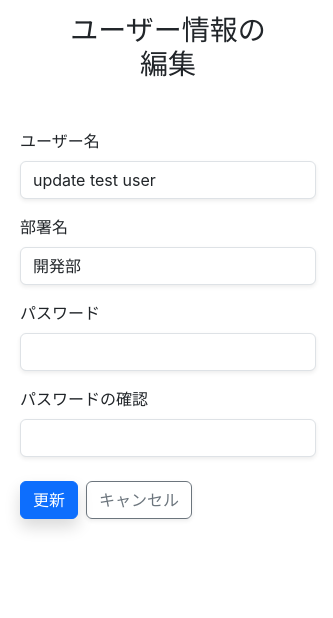
Scenario: UsersEditView › ユーザー情報の更新に失敗した場合 › 入力不備のメッセージが表示されること
Clear the field with id "user-name" at (168, 180), box [20,161,316,199]
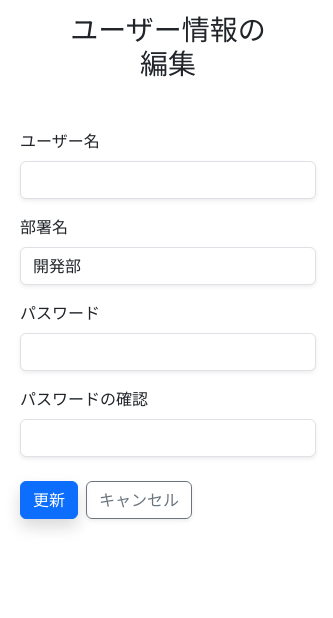
Submit the form from the button "更新", box [20,481,78,519]
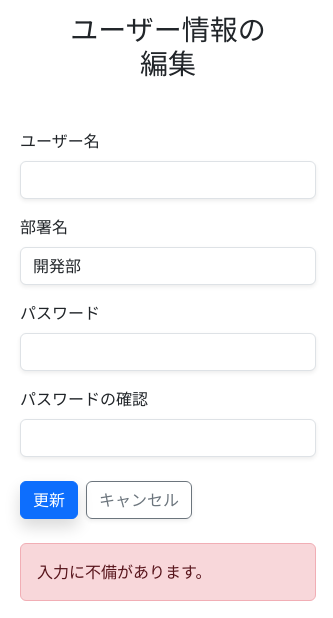
Result: the message with class "alert" reads "入力に不備があります。" at [37,562,211,582]
